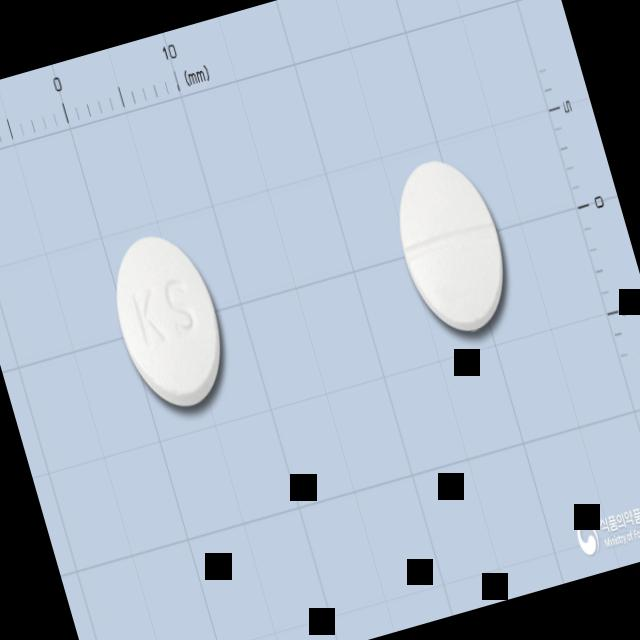Clacid -500mg: (381, 146, 524, 344), (98, 222, 238, 418)
